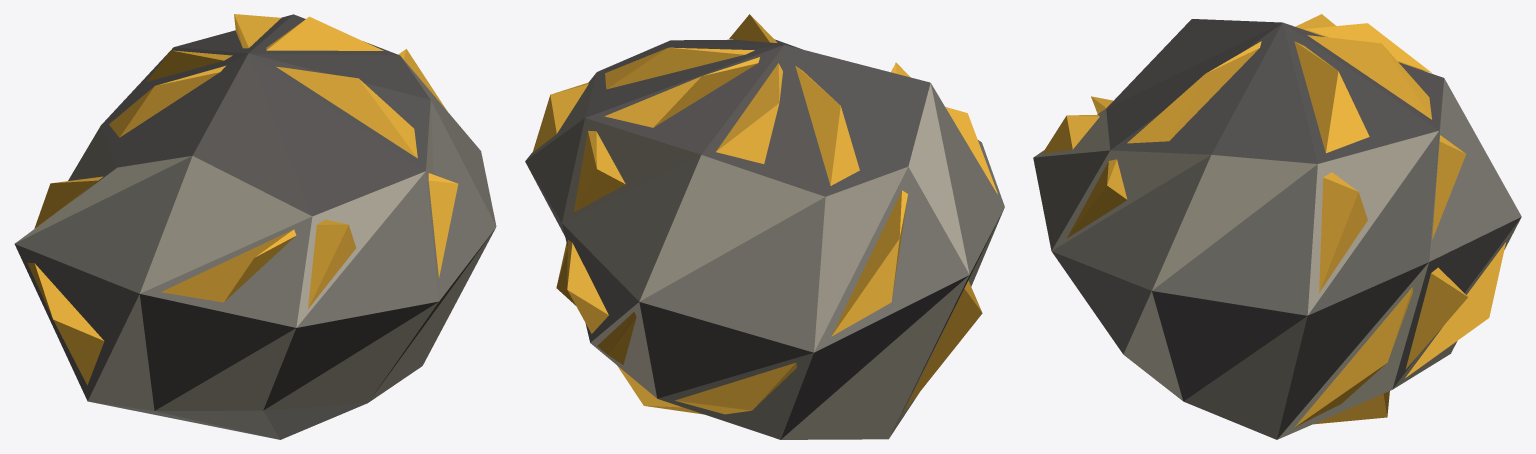
Rendered from GoldOre.fbx.
3 views of the same model, side by side, from view 1: azimuth 30°, elevation 25°; view 2: azimuth 150°, elevation 25°; view 3: azimuth 270°, elevation 25° (orthographic). The views are drawn at different scales.
Visible parts, largest first — view 1: GoldOre_Mesh; view 2: GoldOre_Mesh; view 3: GoldOre_Mesh.
Part boxes in pixels (left/top/right/bottom): GoldOre_Mesh: left=14, top=14, right=496, bottom=439; GoldOre_Mesh: left=525, top=14, right=1004, bottom=439; GoldOre_Mesh: left=1033, top=14, right=1521, bottom=439.
Bounding box in the file's own units: 0.55 × 0.45 × 0.5.
